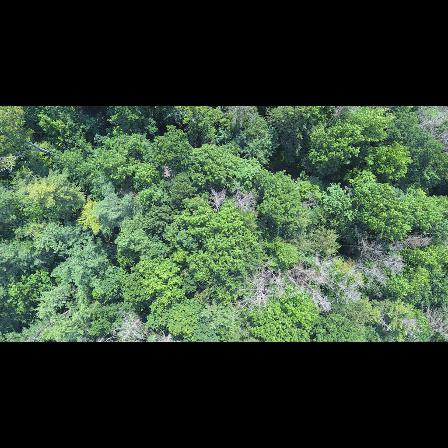Dead: (286, 270, 323, 310), (314, 268, 360, 298), (243, 268, 273, 311), (416, 299, 447, 339), (336, 231, 385, 256), (371, 248, 413, 270), (397, 229, 431, 255), (232, 187, 259, 212), (204, 184, 229, 210)
